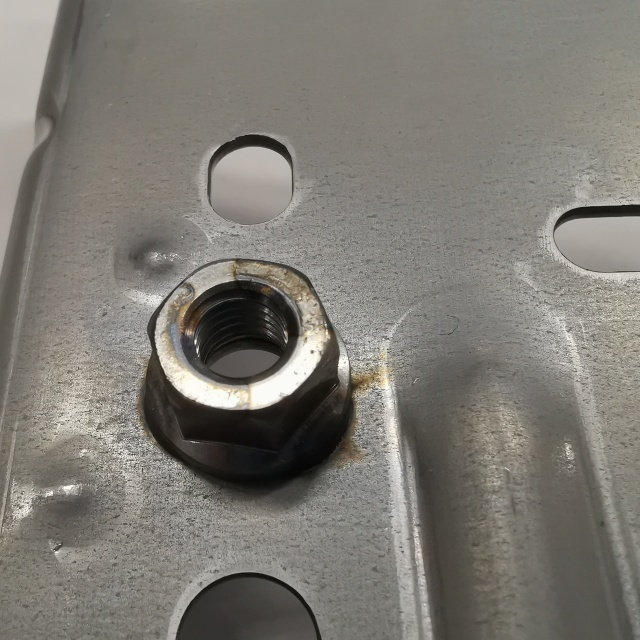dog: (136, 250, 357, 490)
